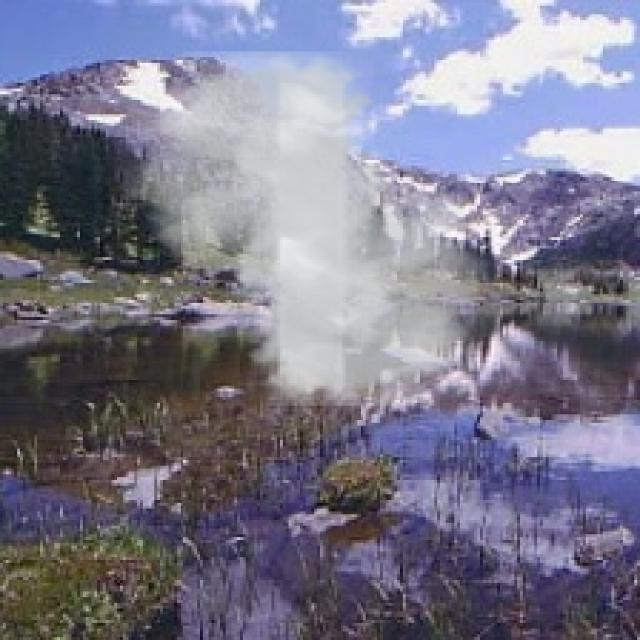smoke: (120, 51, 503, 406)
